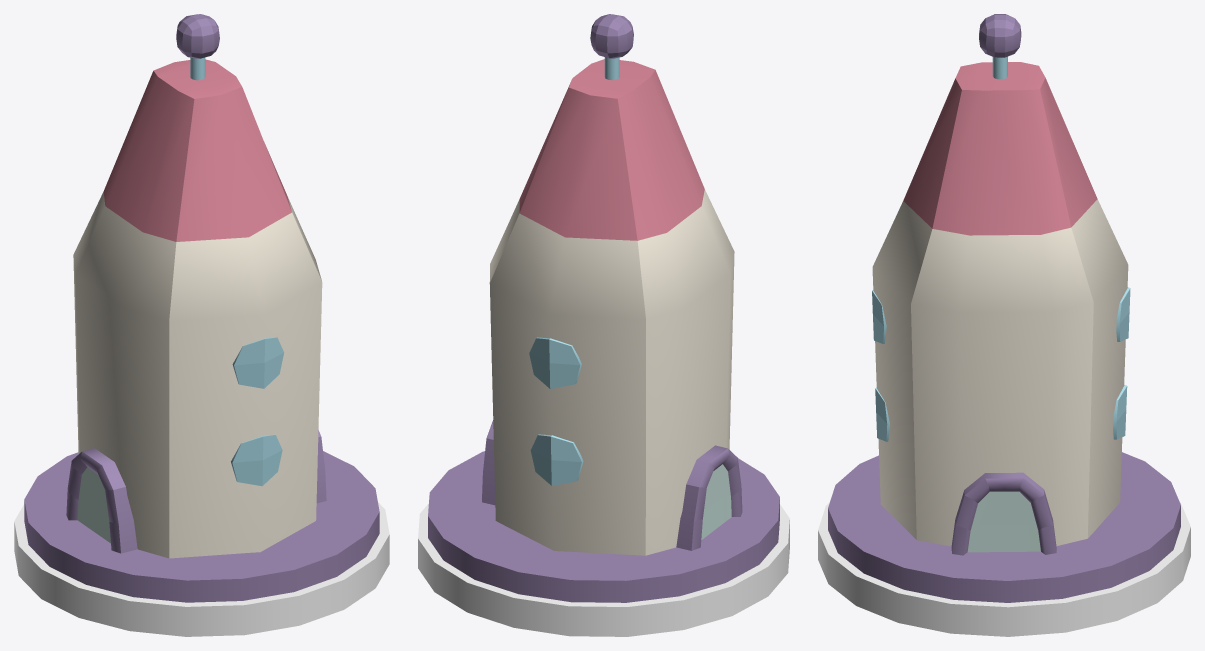
The model's file is Rocket.fbx.
The picture shows the model from 3 angles, left to right: view 1: azimuth 30°, elevation 25°; view 2: azimuth 150°, elevation 25°; view 3: azimuth 270°, elevation 25°; orthographic projection.
Visible parts, largest first — view 1: Rocket; view 2: Rocket; view 3: Rocket.
Part boxes in pixels (bbox=[...]): Rocket: bbox=[14, 14, 389, 636]; Rocket: bbox=[418, 14, 789, 636]; Rocket: bbox=[818, 14, 1190, 636].
Size of the model in its own units: 94.19 by 94.19 by 150.
